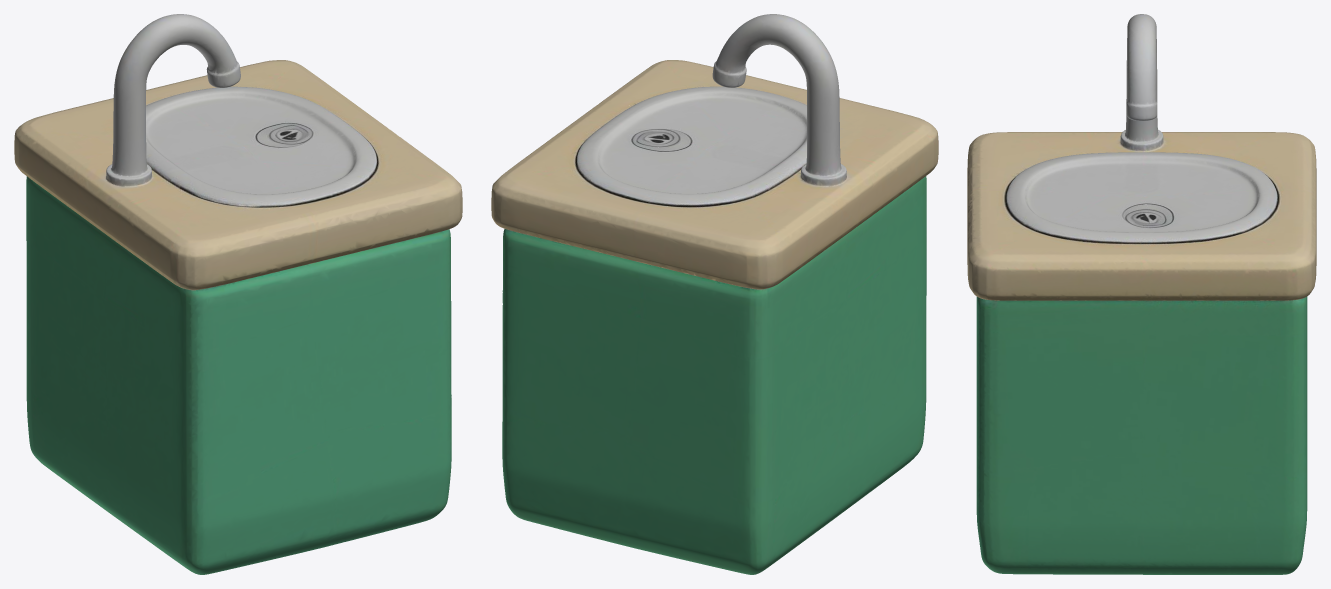
The model's file is Mod_Sink.glb.
3 renders of one model, left to right at view 1: azimuth 30°, elevation 25°; view 2: azimuth 150°, elevation 25°; view 3: azimuth 270°, elevation 25°, orthographic. The views are drawn at different scales.
Visible parts, largest first — view 1: tripo_node_eb4ab9b7-f57a-46be-9477-8c41795eaac4; view 2: tripo_node_eb4ab9b7-f57a-46be-9477-8c41795eaac4; view 3: tripo_node_eb4ab9b7-f57a-46be-9477-8c41795eaac4.
Part boxes in pixels (x1,y1,x2,y2): tripo_node_eb4ab9b7-f57a-46be-9477-8c41795eaac4: [14, 14, 462, 574]; tripo_node_eb4ab9b7-f57a-46be-9477-8c41795eaac4: [491, 14, 938, 574]; tripo_node_eb4ab9b7-f57a-46be-9477-8c41795eaac4: [967, 14, 1316, 574].
Size of the model in its own units: 0.6098 by 1 by 0.6701.
1 material, 1 textured.
